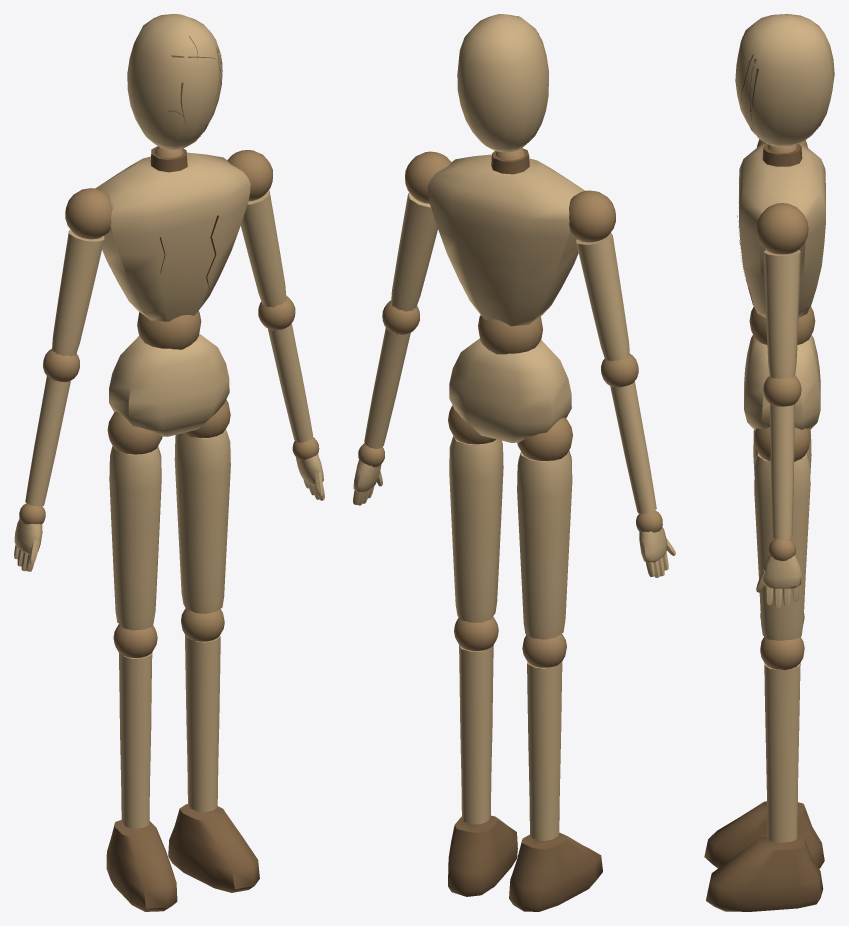
File: puppet_v03.glb
3 renders of one model, left to right at view 1: azimuth 30°, elevation 25°; view 2: azimuth 150°, elevation 25°; view 3: azimuth 270°, elevation 25°, orthographic.
Visible parts, largest first — view 1: PuppetV3_Body, PuppetV3_Head, PuppetV3_Leg_L, PuppetV3_Leg_R, PuppetV3_Shin_R, PuppetV3_Shin_L, PuppetV3_Arm_L, PuppetV3_Foot_R, PuppetV3_Foot_L, PuppetV3_Arm_R, PuppetV3_Forearm_L, PuppetV3_Forearm_R (+2 smaller); view 2: PuppetV3_Body, PuppetV3_Leg_L, PuppetV3_Head, PuppetV3_Leg_R, PuppetV3_Shin_L, PuppetV3_Shin_R, PuppetV3_Arm_L, PuppetV3_Foot_L, PuppetV3_Arm_R, PuppetV3_Foot_R, PuppetV3_Forearm_L, PuppetV3_Forearm_R (+2 smaller); view 3: PuppetV3_Body, PuppetV3_Head, PuppetV3_Shin_R, PuppetV3_Foot_R, PuppetV3_Leg_R, PuppetV3_Arm_R, PuppetV3_Forearm_R, PuppetV3_Foot_L, PuppetV3_Hand_R.
Part boxes in pixels (x1,y1,x2,y2): PuppetV3_Body: [95, 146, 250, 436]; PuppetV3_Head: [127, 14, 222, 149]; PuppetV3_Leg_L: [107, 411, 162, 630]; PuppetV3_Leg_R: [174, 400, 230, 613]; PuppetV3_Shin_R: [181, 608, 224, 812]; PuppetV3_Shin_L: [113, 624, 157, 828]; PuppetV3_Arm_L: [52, 188, 111, 356]; PuppetV3_Foot_R: [168, 804, 259, 892]; PuppetV3_Foot_L: [106, 820, 177, 911]; PuppetV3_Arm_R: [227, 150, 286, 307]; PuppetV3_Forearm_L: [25, 349, 79, 506]; PuppetV3_Forearm_R: [258, 296, 312, 442]; PuppetV3_Body: [427, 148, 585, 442]; PuppetV3_Leg_L: [517, 417, 572, 639]; PuppetV3_Head: [457, 14, 548, 152]; PuppetV3_Leg_R: [448, 405, 503, 622]; PuppetV3_Shin_L: [522, 633, 566, 840]; PuppetV3_Shin_R: [454, 616, 498, 824]; PuppetV3_Arm_L: [569, 190, 629, 361]; PuppetV3_Foot_L: [509, 832, 602, 911]; PuppetV3_Arm_R: [391, 151, 451, 311]; PuppetV3_Foot_R: [448, 815, 517, 896]; PuppetV3_Forearm_L: [601, 354, 656, 513]; PuppetV3_Forearm_R: [364, 300, 419, 448]; PuppetV3_Body: [737, 143, 825, 430]; PuppetV3_Head: [735, 14, 834, 146]; PuppetV3_Shin_R: [760, 636, 804, 842]; PuppetV3_Foot_R: [706, 834, 823, 911]; PuppetV3_Leg_R: [754, 427, 810, 640]; PuppetV3_Arm_R: [756, 203, 808, 378]; PuppetV3_Forearm_R: [763, 376, 801, 539]; PuppetV3_Foot_L: [704, 801, 824, 868]; PuppetV3_Hand_R: [756, 538, 801, 607].
Size of the model in its own units: 0.6429 by 1.75 by 0.2376.
